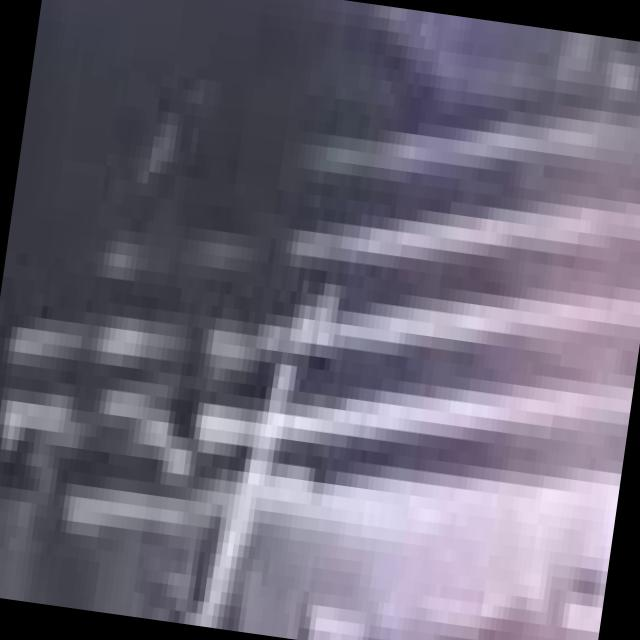stick: (174, 381, 310, 637)
